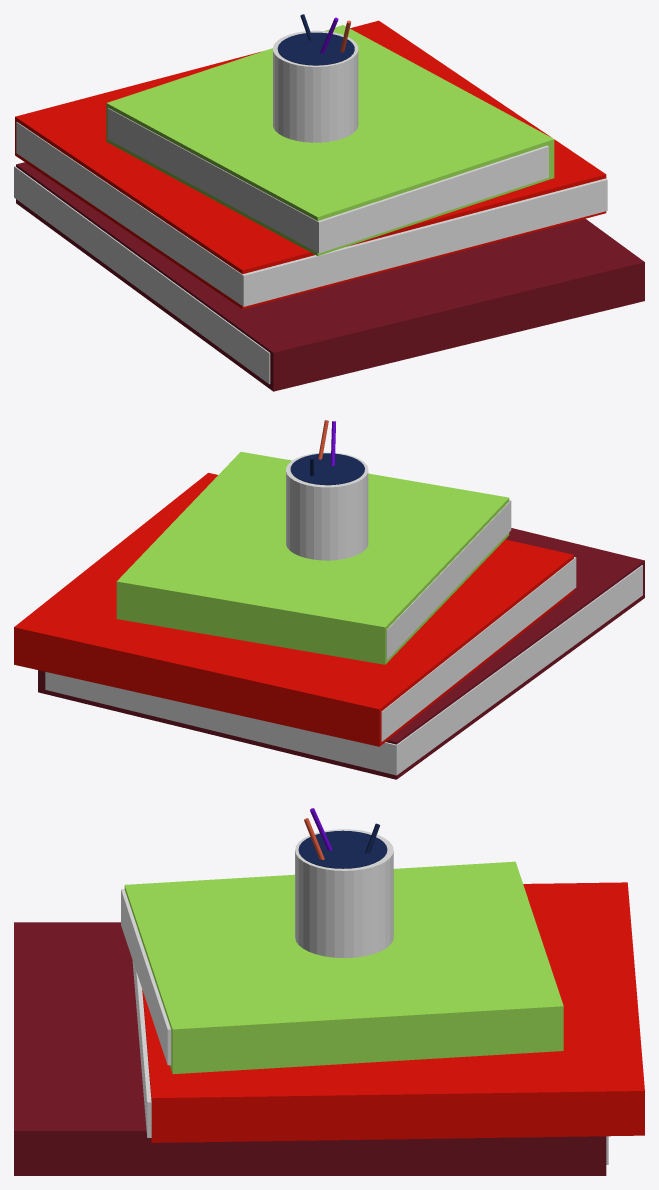
Rendered from lapiz.fbx.
3 renders of one model, top to bottom at view 1: azimuth 30°, elevation 25°; view 2: azimuth 150°, elevation 25°; view 3: azimuth 270°, elevation 25°, orthographic. The views are drawn at different scales.
Parts seen in each view (by area): view 1: Cube.001, Cube.005, Cube.004, Cube.002, Cube, Cube.003, Cylinder.004, Cylinder; view 2: Cube.005, Cube.004, Cube.003, Cube.001, Cylinder.004, Cube.002, Cube, Cylinder; view 3: Cube.005, Cube.004, Cube.001, Cylinder.004, Cube, Cylinder, Cube.002.
Boxes of the visible parts, bbox=[...] form: Cube.001: bbox=[16, 162, 644, 391]; Cube.005: bbox=[106, 25, 554, 255]; Cube.004: bbox=[15, 20, 606, 309]; Cube.002: bbox=[16, 122, 607, 306]; Cube: bbox=[107, 108, 548, 253]; Cube.003: bbox=[14, 166, 270, 384]; Cylinder.004: bbox=[273, 30, 358, 142]; Cylinder: bbox=[277, 32, 354, 65]; Cube.005: bbox=[116, 452, 509, 664]; Cube.004: bbox=[14, 473, 573, 746]; Cube.003: bbox=[45, 565, 642, 775]; Cube.001: bbox=[38, 528, 644, 779]; Cylinder.004: bbox=[286, 452, 368, 560]; Cube.002: bbox=[381, 557, 576, 741]; Cube: bbox=[386, 500, 511, 659]; Cylinder: bbox=[290, 453, 364, 485]; Cube.005: bbox=[124, 861, 563, 1074]; Cube.004: bbox=[142, 882, 644, 1142]; Cube.001: bbox=[14, 922, 606, 1175]; Cylinder.004: bbox=[295, 829, 393, 957]; Cube: bbox=[121, 889, 171, 1065]; Cylinder: bbox=[298, 830, 387, 868]; Cube.002: bbox=[132, 961, 151, 1137].
Size of the model in its own units: 1060 by 596 by 1278.
